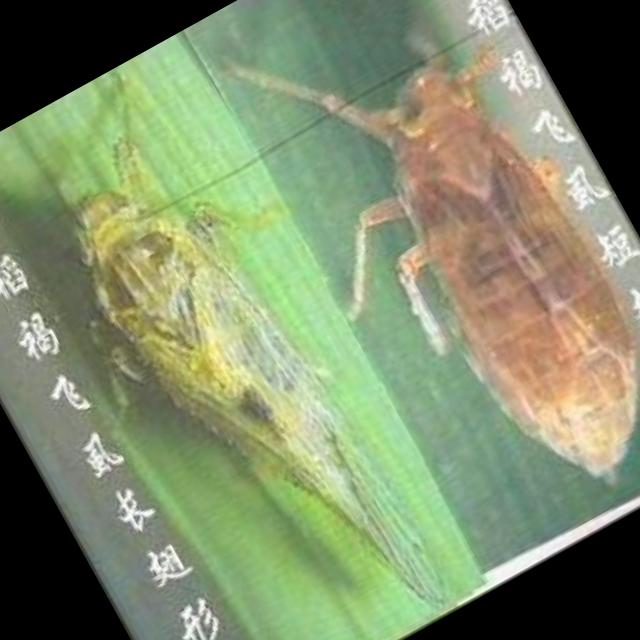brown-planthopper: (27, 125, 462, 640), (276, 0, 640, 530)
